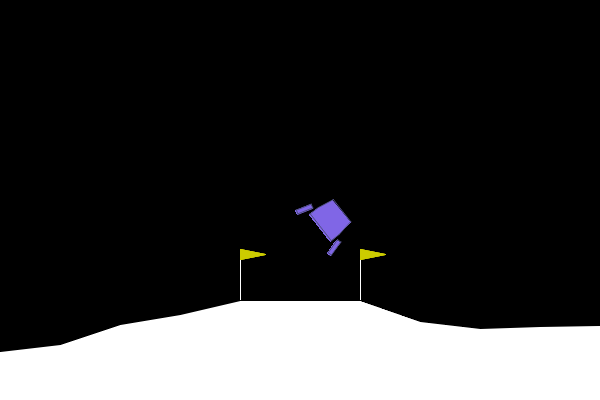lander: (293, 186, 362, 258)
